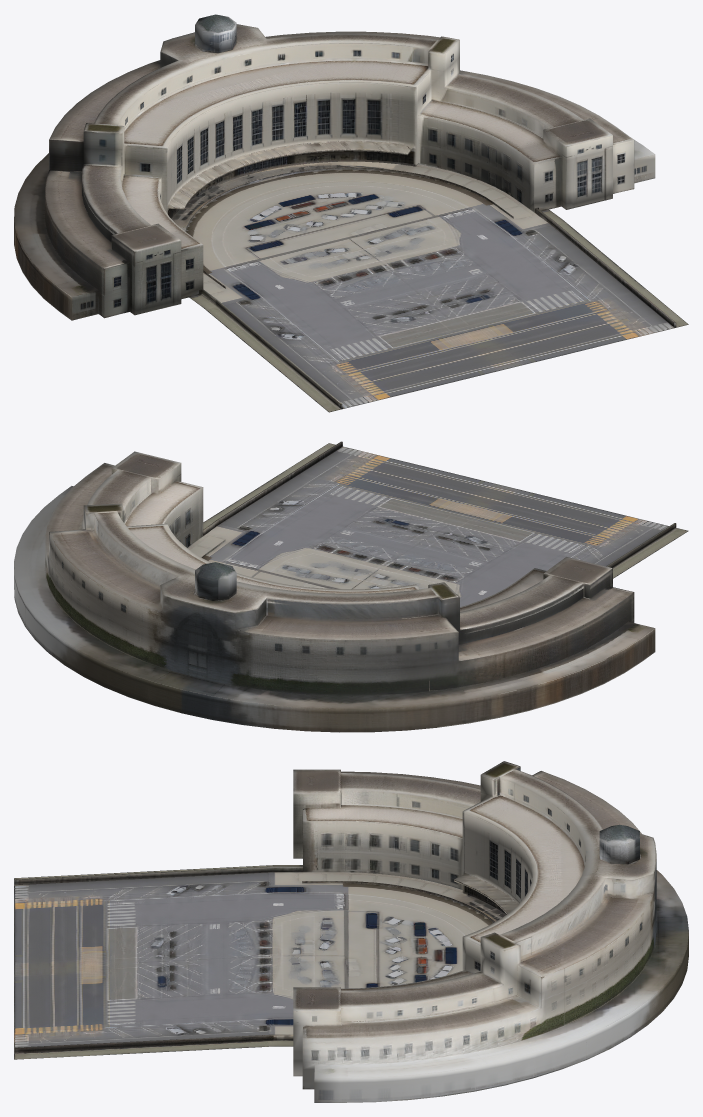
The model's file is Treasure_Island_2.glb.
3 views of the same model, one above another, from view 1: azimuth 30°, elevation 25°; view 2: azimuth 150°, elevation 25°; view 3: azimuth 270°, elevation 25° (orthographic). The views are drawn at different scales.
Bounding box in the file's own units: 2 × 0.4844 × 1.94.
Materials: 1 (1 with a texture image).
